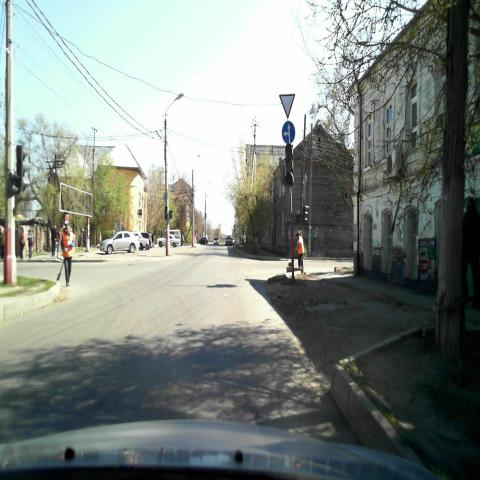4_1_5: (281, 121, 296, 145)
